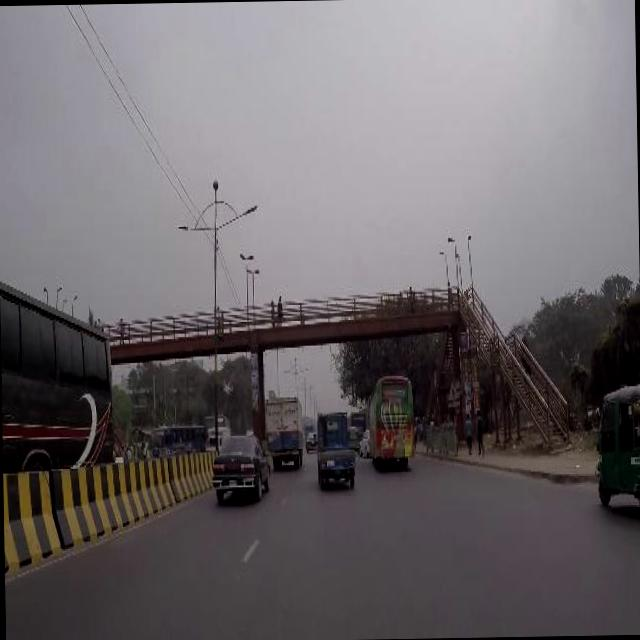bus: (2, 268, 118, 468), (367, 374, 417, 467), (152, 422, 208, 456), (206, 411, 231, 437)
car: (211, 429, 271, 500), (359, 426, 372, 456), (307, 430, 317, 450)
motorcycle: (595, 378, 640, 507), (348, 424, 360, 452)
truck: (316, 406, 356, 491), (266, 393, 304, 468)
